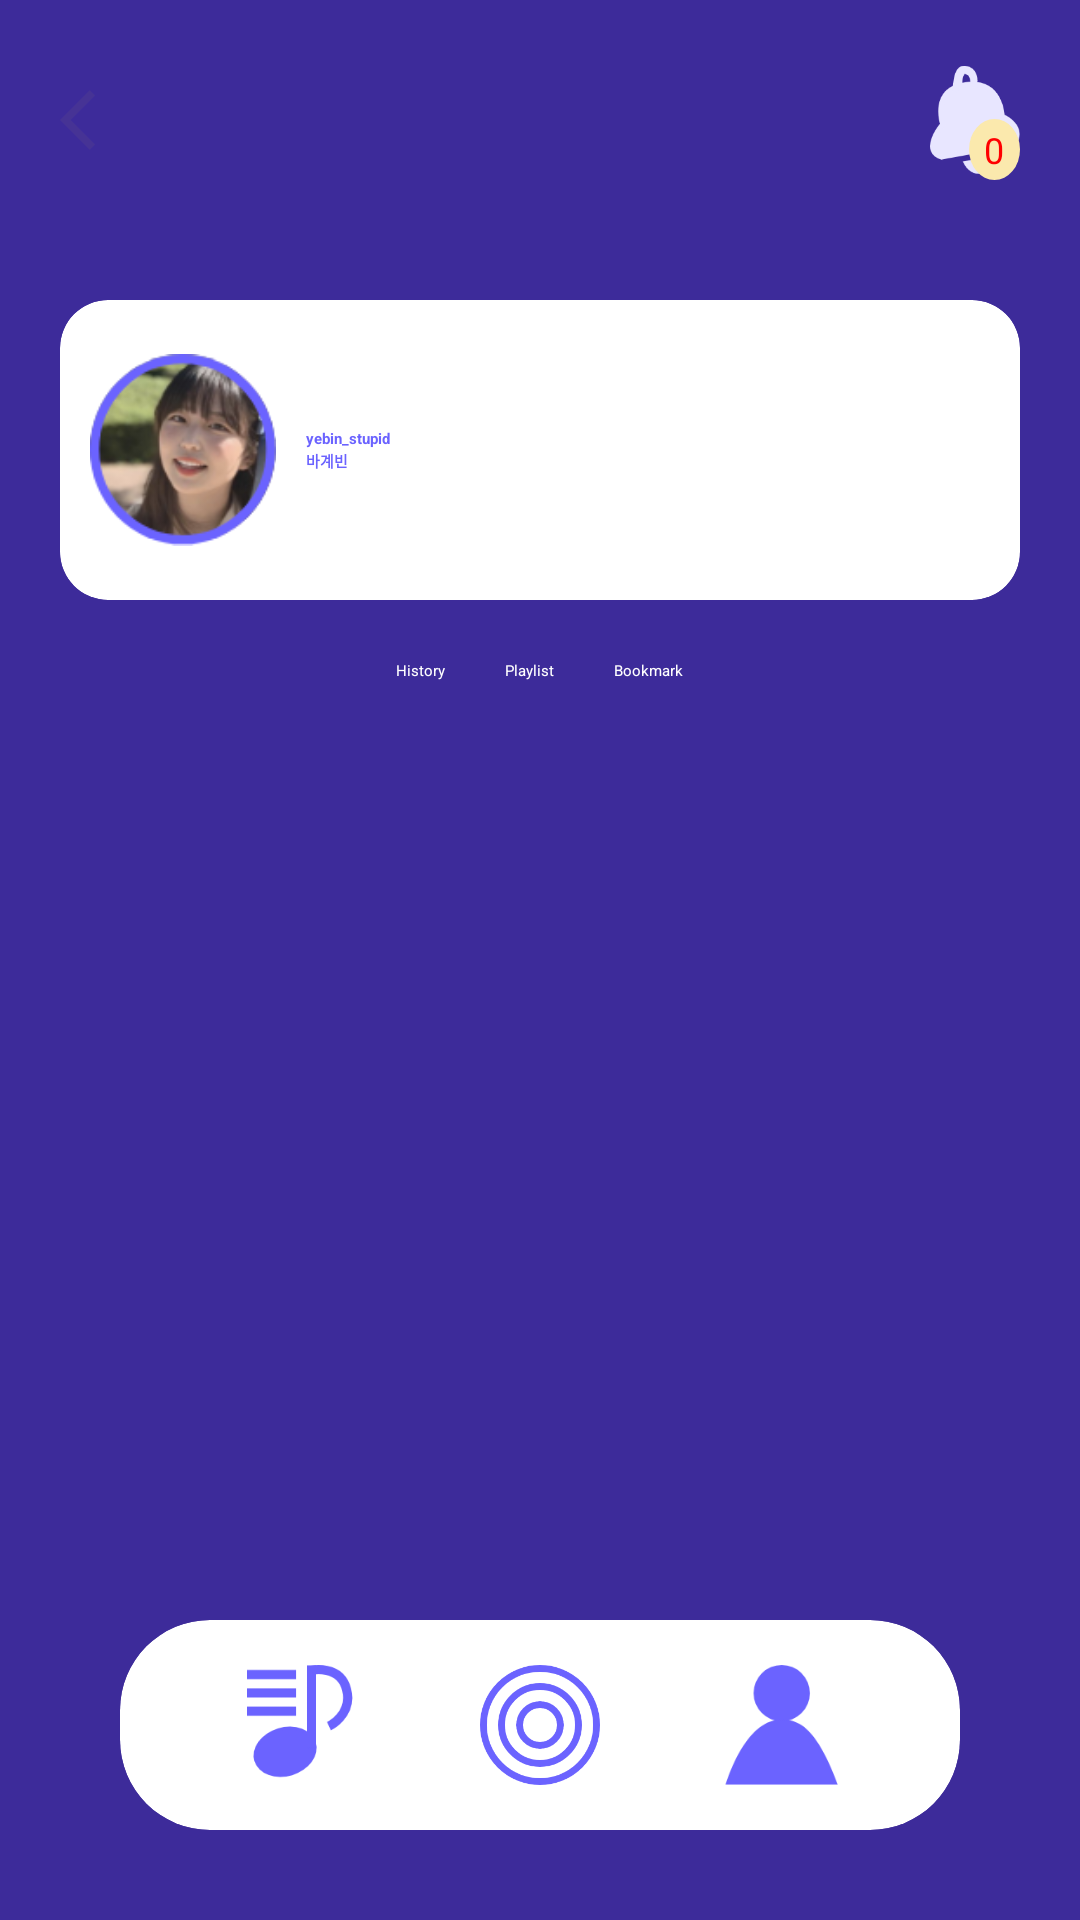

Screen size 1080px×1920px. Icon name, then its box in pixels as BBox(x1, y1, x2, y2):
notification: BBox(930, 66, 1020, 180)
play list: BBox(247, 1665, 353, 1777)
profile: BBox(725, 1665, 838, 1785)
